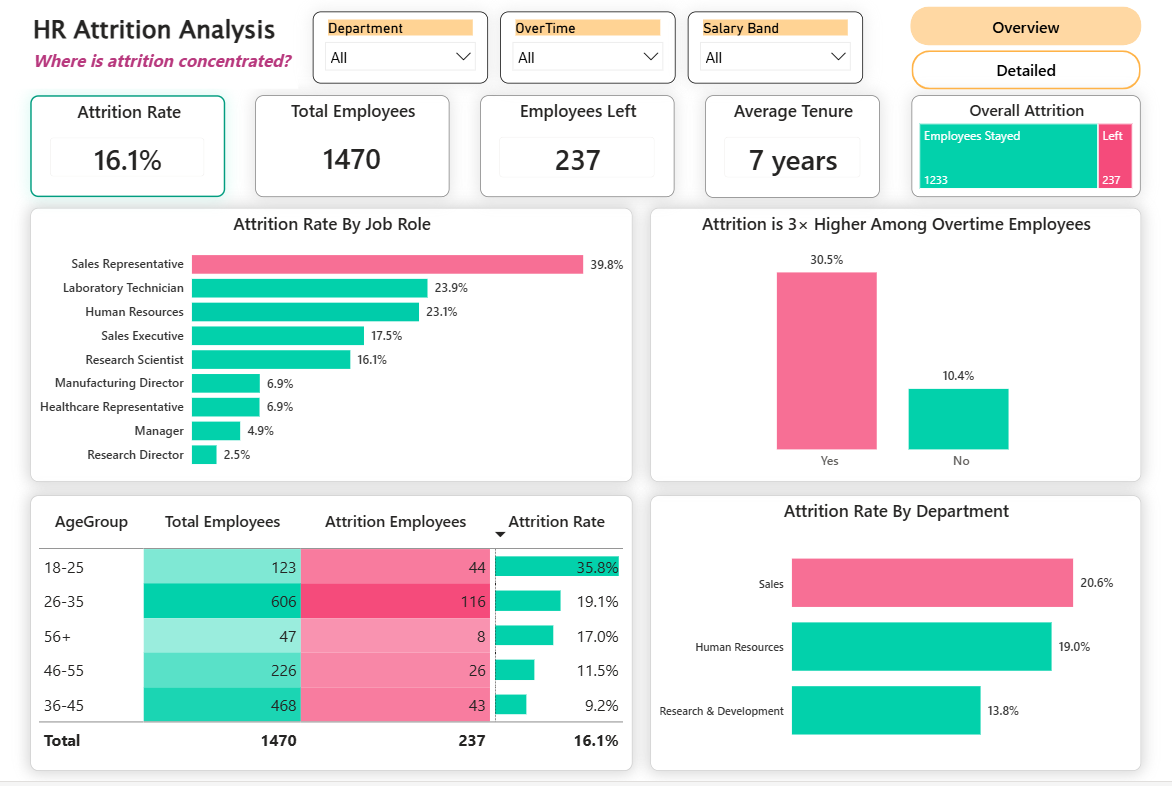

What the dashboard file says about the page in this screenshot:
{"tool":"powerbi","page":{"name":"Overview","canvas":[1280,860],"ordinal":0},"visuals":[{"type":"barChart","title":"Attrition Rate By Department","fields":{"Category":["hrattrition.Department"],"Y":["Measures Table.Attrition Rate"]},"box":[710.2,546.2,539.8,303.4],"z":0},{"type":"barChart","title":"Attrition Rate By Job Role","fields":{"Y":["Measures Table.Attrition Rate"],"Category":["hrattrition.JobRole"]},"box":[29.4,230,662.3,301.9],"z":1000},{"type":"clusteredColumnChart","title":"Attrition is 3× Higher Among Overtime Employees","fields":{"Y":["Measures Table.Attrition Rate"],"Category":["hrattrition.OverTime"]},"box":[710.2,230,539.8,301.9],"z":2000},{"type":"tableEx","fields":{"Values":["hrattrition.AgeGroup","Measures Table.Total Employees","Measures Table.Attrition Employees","Measures Table.Attrition Rate"]},"box":[29.4,546.2,662.3,303.4],"z":3000},{"type":"cardVisual","title":"Total Employees","fields":{"Data":["Measures Table.Total Employees"]},"box":[276.9,105.5,213.6,112],"z":4000},{"type":"cardVisual","title":"Attrition Rate","fields":{"Data":["Measures Table.Attrition Rate"]},"box":[28.7,105.5,214.4,112],"z":5000},{"type":"cardVisual","title":"Employees Left","fields":{"Data":["Measures Table.Attrition Employees"]},"box":[524.3,105.5,213.6,112],"z":6000},{"type":"cardVisual","title":"Average Tenure","fields":{"Data":["Measures Table.Average Tenure"]},"box":[771.7,105.2,192.3,112.5],"z":7000},{"type":"treemap","title":"Overall Attrition","fields":{"Values":["Measures Table.Employees Stayed","Measures Table.Attrition Employees"]},"box":[997.8,105.5,252.1,112],"z":8000},{"type":"textbox","box":[7.2,8.6,317,90.8],"z":9000},{"type":"slicer","fields":{"Values":["hrattrition.Department"]},"box":[340.1,13.4,193.1,79.3],"z":10000},{"type":"slicer","fields":{"Values":["hrattrition.OverTime"]},"box":[546.1,13.4,193.1,79.3],"z":11000},{"type":"slicer","fields":{"Values":["hrattrition.Salary Band"]},"box":[752.2,13.4,193.1,79.3],"z":12000},{"type":"actionButton","box":[997.1,8.6,254.3,42.9],"z":13000},{"type":"actionButton","box":[998.6,56.2,252.2,43.2],"z":14000}]}

Visuals, with their boxes in screenshot pixels (x1, y1, x2, y2), scaled from the page's 1280x860 canvas onto the 1172x786 screenshot:
"Attrition Rate By Department" barChart: (650, 499, 1145, 776)
"Attrition Rate By Job Role" barChart: (27, 210, 633, 486)
"Attrition is 3× Higher Among Overtime Employees" clusteredColumnChart: (650, 210, 1145, 486)
tableEx - hrattrition.AgeGroup x Measures Table.Total Employees: (27, 499, 633, 776)
"Total Employees" cardVisual: (254, 96, 449, 199)
"Attrition Rate" cardVisual: (26, 96, 223, 199)
"Employees Left" cardVisual: (480, 96, 676, 199)
"Average Tenure" cardVisual: (707, 96, 883, 199)
"Overall Attrition" treemap: (914, 96, 1144, 199)
textbox: (7, 8, 297, 91)
slicer - hrattrition.Department: (311, 12, 488, 85)
slicer - hrattrition.OverTime: (500, 12, 677, 85)
slicer - hrattrition.Salary Band: (689, 12, 866, 85)
actionButton: (913, 8, 1146, 47)
actionButton: (914, 51, 1145, 91)
